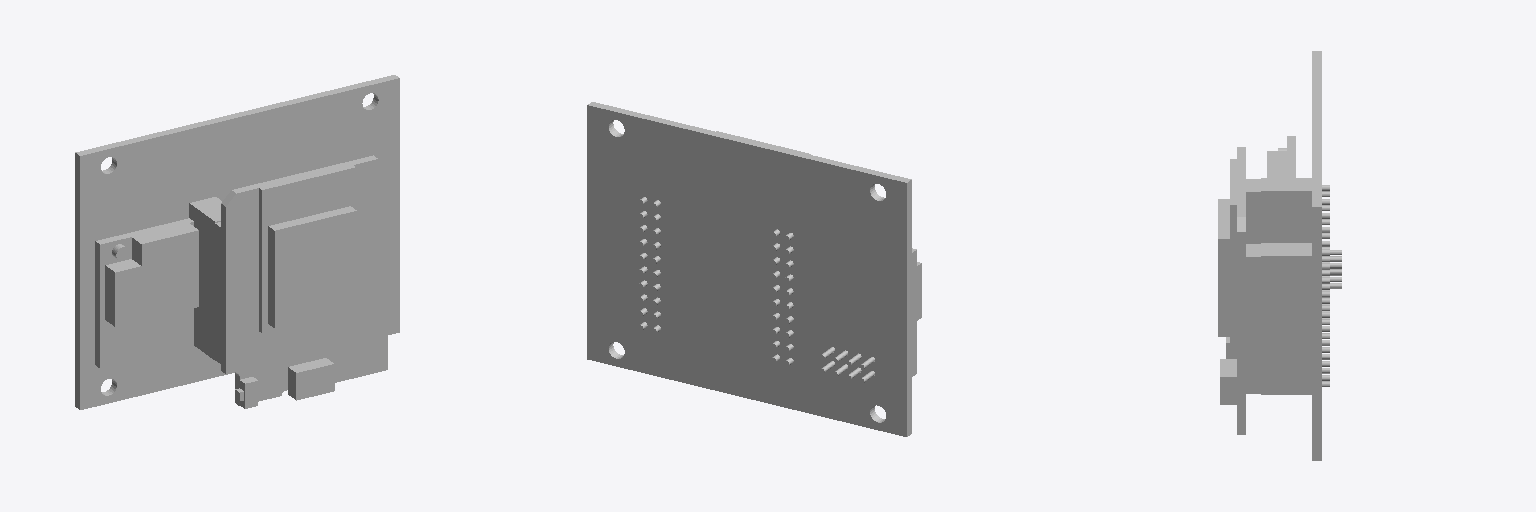
File: MLH4 v2.0.obj
3 renders of one model, left to right at view 1: azimuth 30°, elevation 25°; view 2: azimuth 150°, elevation 25°; view 3: azimuth 270°, elevation 25°, orthographic.
Visible parts, largest first — view 1: PCB, PCB:2, ESP32 wroom, SX11278, PCB:1, Antenna, Corps1, USB, J1; view 2: PCB, PCB:1; view 3: Corps1:3, PCB, Corps1:1, PCB:2, J2, ESP32 wroom, Antenna, J1, SX11278, USB.
Part boxes in pixels (x1,y1,x2,y2): PCB: (75, 75, 399, 409); PCB:2: (221, 155, 387, 405); ESP32 wroom: (268, 206, 356, 327); SX11278: (105, 220, 198, 326); PCB:1: (95, 218, 193, 368); Antenna: (259, 165, 355, 333); Corps1: (189, 200, 220, 359); USB: (288, 358, 334, 400); J1: (215, 222, 220, 363); PCB: (587, 102, 911, 436); PCB:1: (912, 248, 916, 376); Corps1:3: (1261, 249, 1311, 394); PCB: (1312, 51, 1321, 460); Corps1:1: (1261, 184, 1311, 242); PCB:2: (1237, 147, 1245, 434); J2: (1246, 244, 1260, 393); ESP32 wroom: (1218, 199, 1229, 336); Antenna: (1230, 159, 1236, 347); J1: (1246, 179, 1260, 243); SX11278: (1267, 151, 1295, 177); USB: (1220, 359, 1236, 404).
Size of the model in its own units: 6.11 by 4.65 by 2.06.